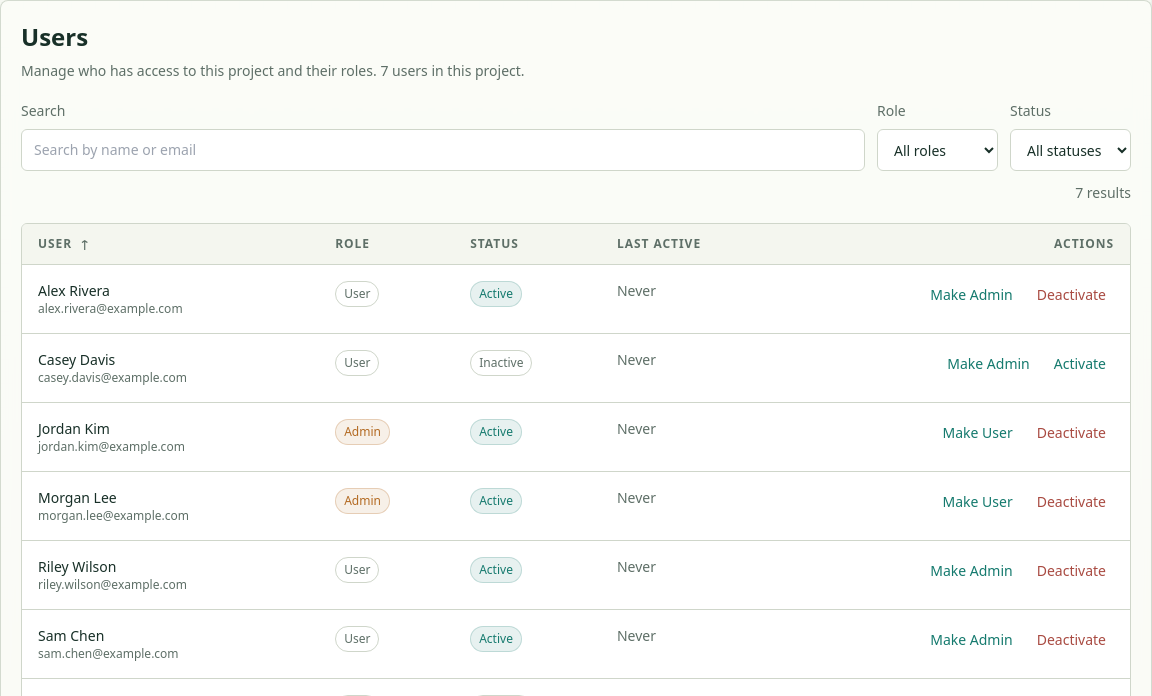
Test: AdminUsersPage — table › filters rows by name
In the search field with placeholder "Search by name or email": (443, 150) [21,129,865,171], type "Jordan"
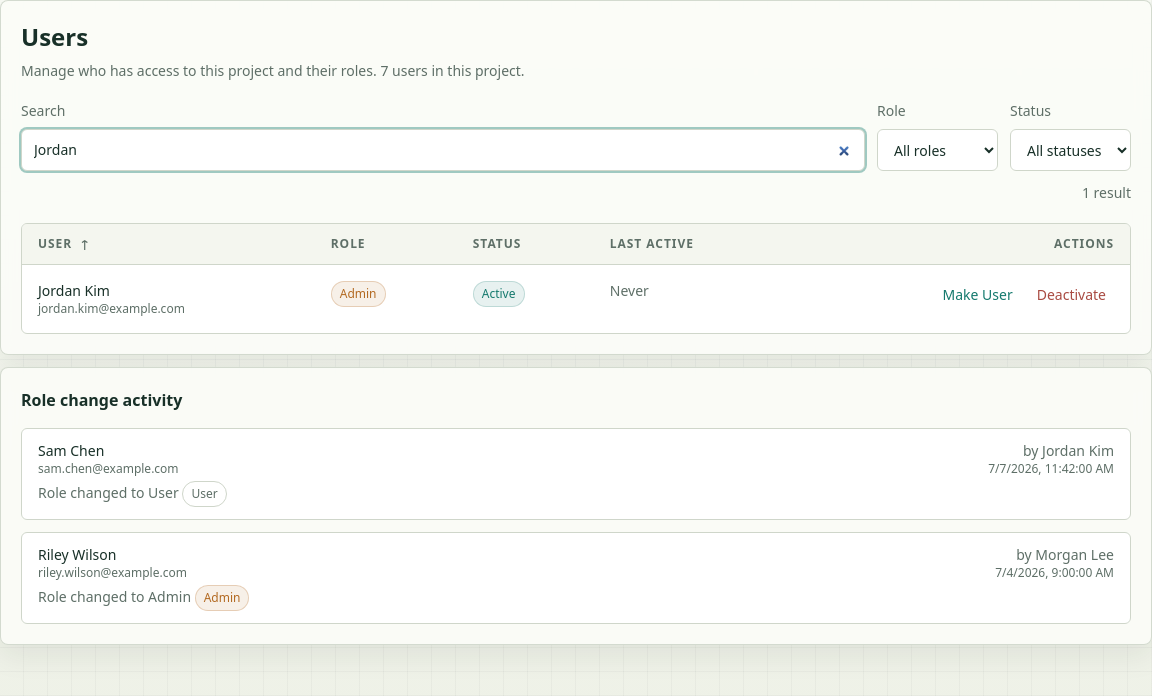
Check: the text "Jordan Kim" is shown, box [38,281,110,300]
Check: the text "Alex Rivera" is gone
